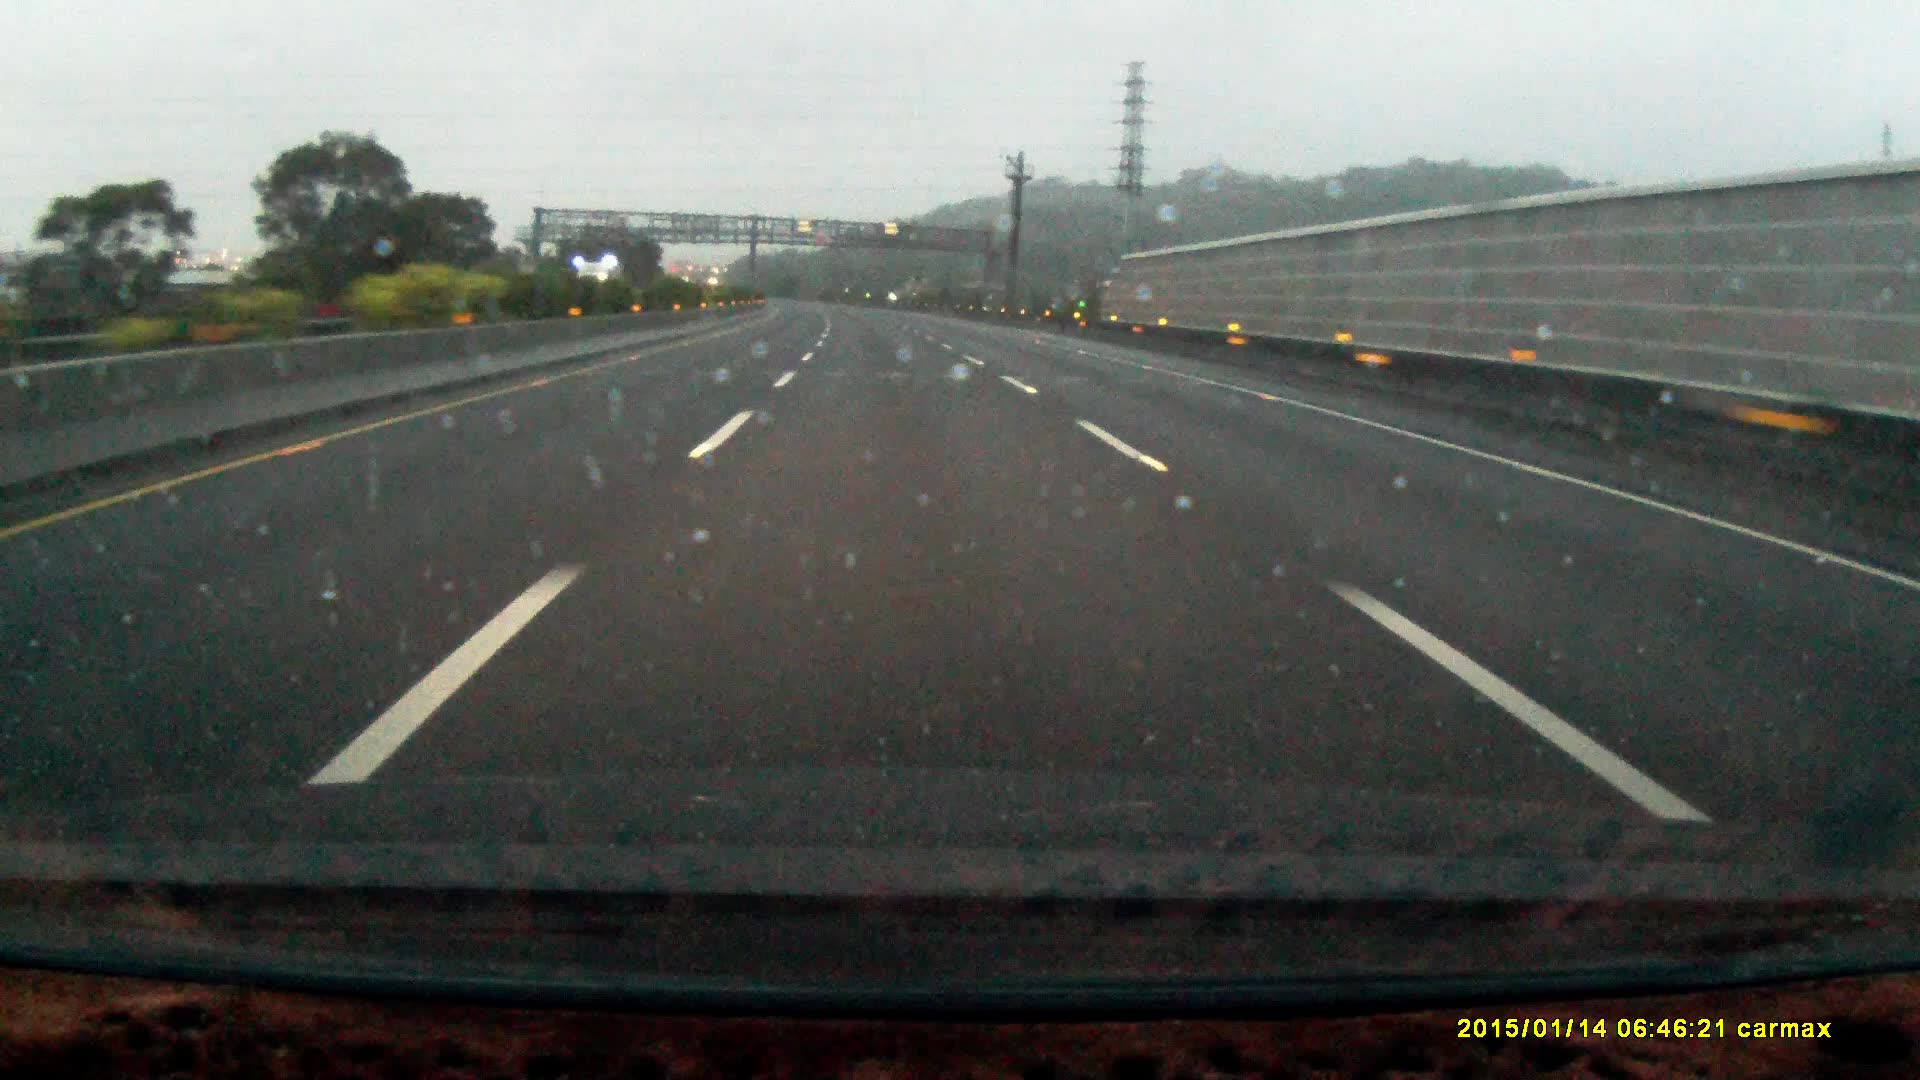vehicle: (574, 258, 622, 314)
